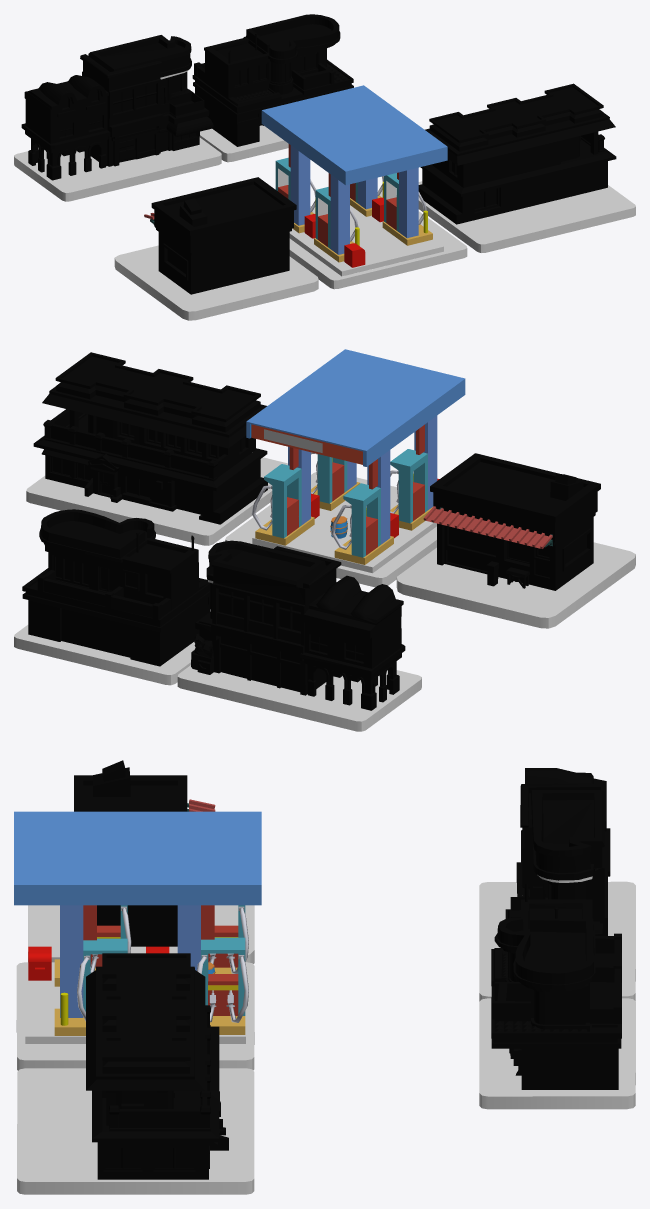
File: san_isidro_m.fbx
3 renders of one model, top to bottom at view 1: azimuth 30°, elevation 25°; view 2: azimuth 150°, elevation 25°; view 3: azimuth 270°, elevation 25°, orthographic. The views are drawn at different scales.
Parts seen in each view (by area): view 1: san_isidro_m; view 2: san_isidro_m; view 3: san_isidro_m.
Part boxes in pixels (<box>): san_isidro_m: <box>14,14,635,320</box>; san_isidro_m: <box>14,349,635,731</box>; san_isidro_m: <box>14,760,635,1194</box>.
Size of the model in its own units: 2708 by 671 by 2196.
